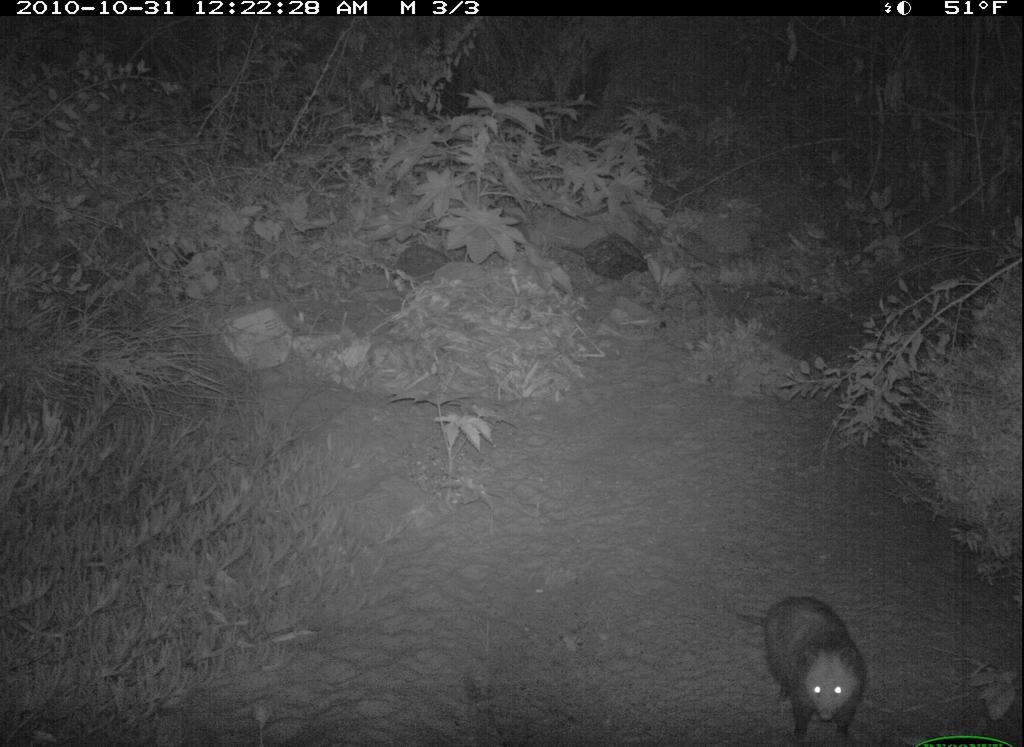opossum: (701, 574, 871, 747)
